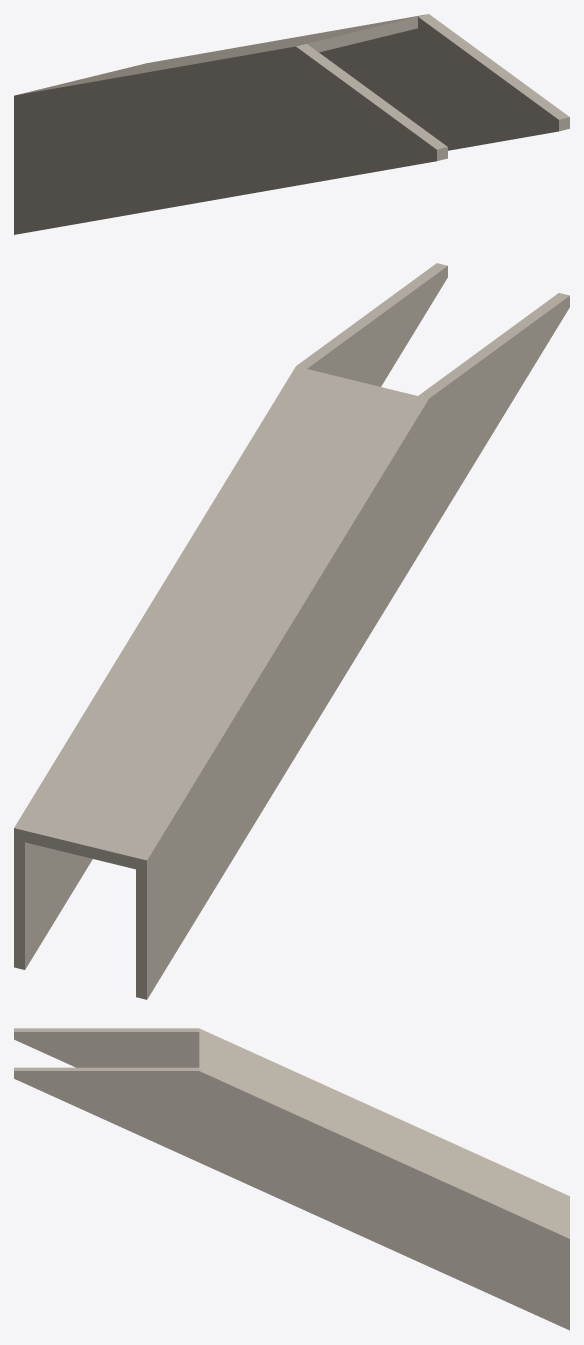
Rendered from gallery_ramp.gltf.
3 renders of one model, top to bottom at view 1: azimuth 30°, elevation 25°; view 2: azimuth 150°, elevation 25°; view 3: azimuth 270°, elevation 25°, orthographic. The views are drawn at different scales.
Parts seen in each view (by area): view 1: Ramp; view 2: Ramp; view 3: Ramp.
Boxes of the visible parts, <box> form: Ramp: <box>14,14,569,234</box>; Ramp: <box>14,263,569,999</box>; Ramp: <box>14,1028,569,1330</box>.
Size of the model in its own units: 6 by 17 by 33.
